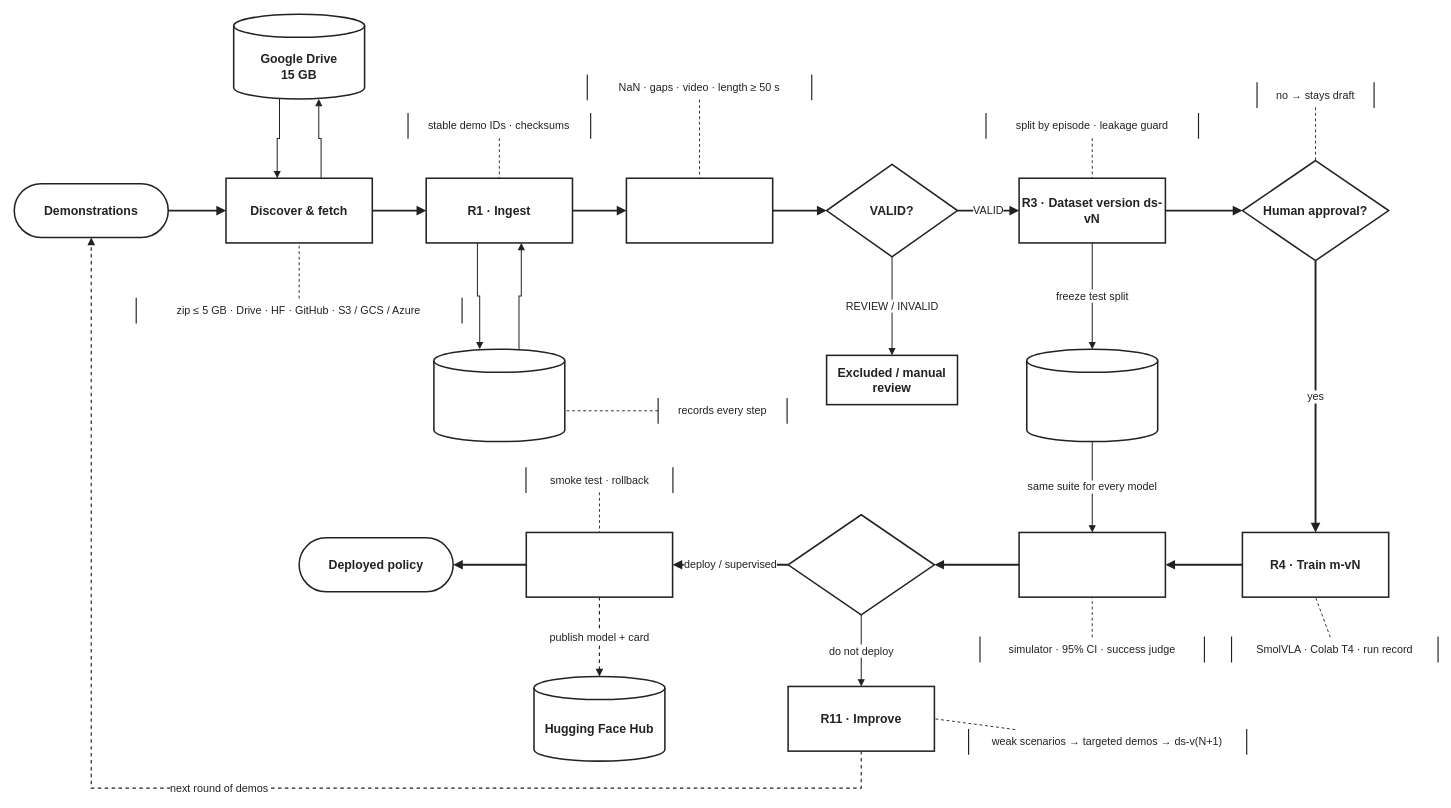
The diagram is 1451 pixels wide and 808 high, and some of its shapes have lost their labels. Each missing label, with the centre of its shape:
Frozen test suite: (1092,395)
R10 · Deploy: (599,564)
R2 · Quality checks: (699,210)
R5 · Evaluate: (1092,564)
R6 · Gates pass?: (861,564)
Registry (SQLite): (499,395)
